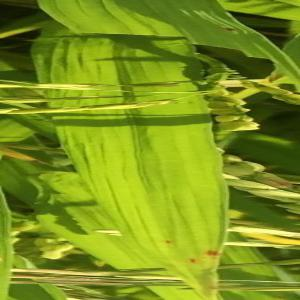Brown_Spot: (203, 245, 223, 263), (219, 22, 239, 39), (184, 254, 202, 268), (159, 235, 176, 249)
